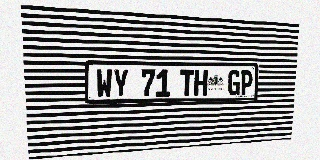1: (156, 69, 170, 97)
7: (141, 69, 155, 97)
G: (228, 70, 241, 95)
H: (194, 70, 208, 96)
P: (240, 70, 253, 95)
T: (180, 70, 194, 96)
W: (96, 69, 112, 98)
Y: (113, 69, 128, 98)
